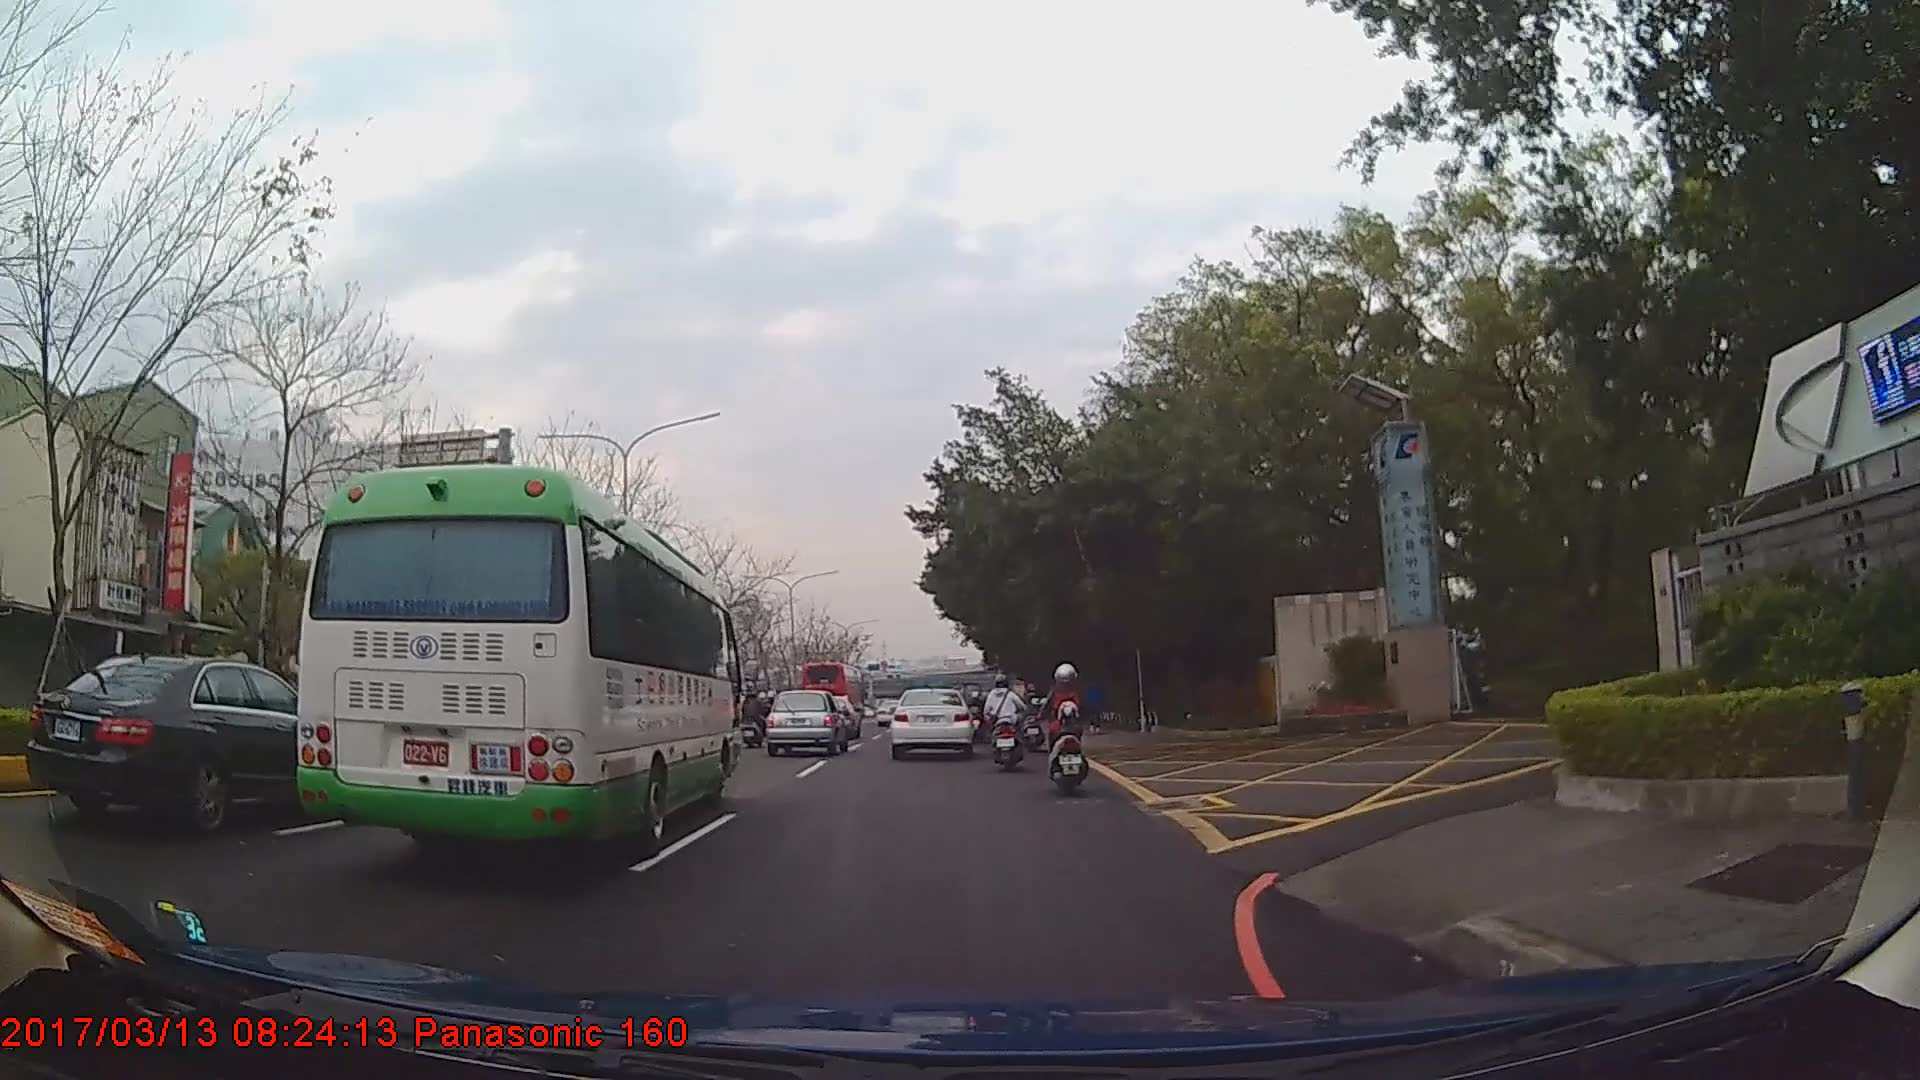pedestrian: (1083, 677, 1107, 736)
rider: (1044, 665, 1089, 802), (983, 676, 1027, 773), (1020, 680, 1045, 751), (743, 689, 770, 741)
vehicle: (287, 459, 740, 857), (24, 652, 366, 833), (888, 684, 974, 758), (762, 687, 849, 756), (798, 659, 865, 724)
